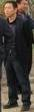boots: (3, 101, 18, 108), (21, 103, 30, 110)
